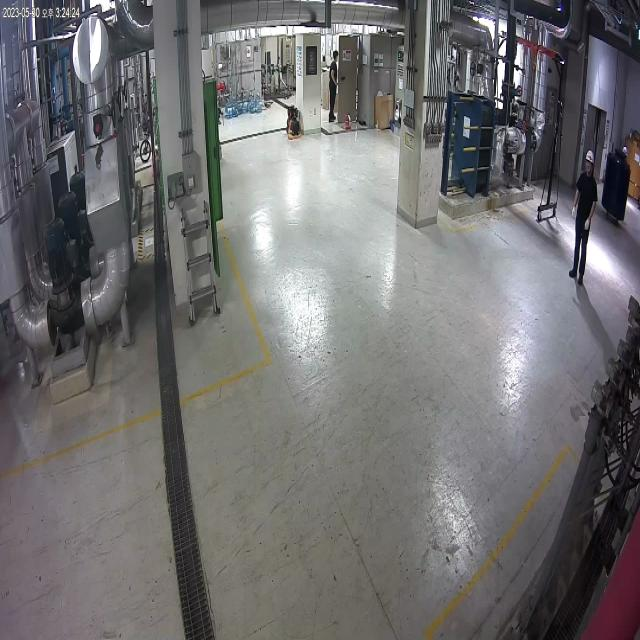Water Tank: (600, 141, 630, 229)
worker: (564, 134, 598, 302), (615, 144, 628, 162)
